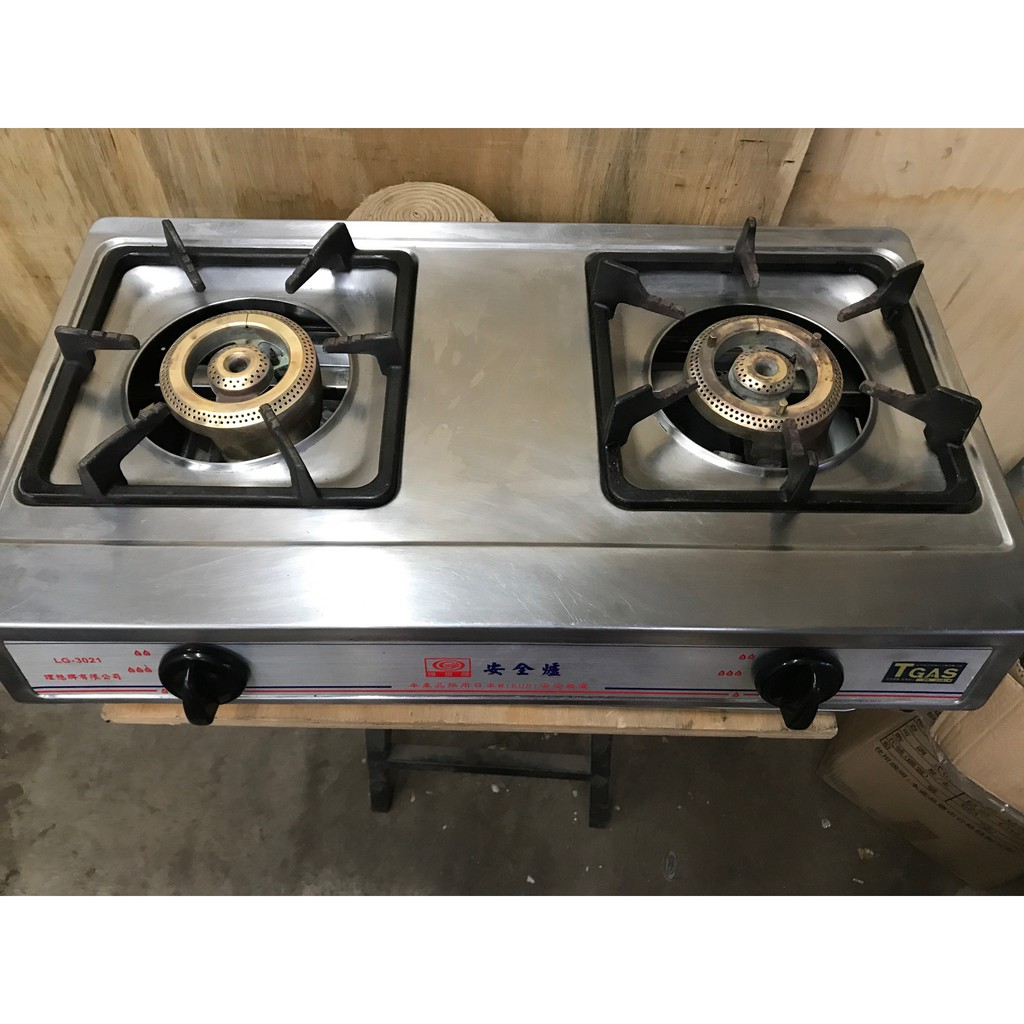gasoven: (3, 216, 1012, 729)
